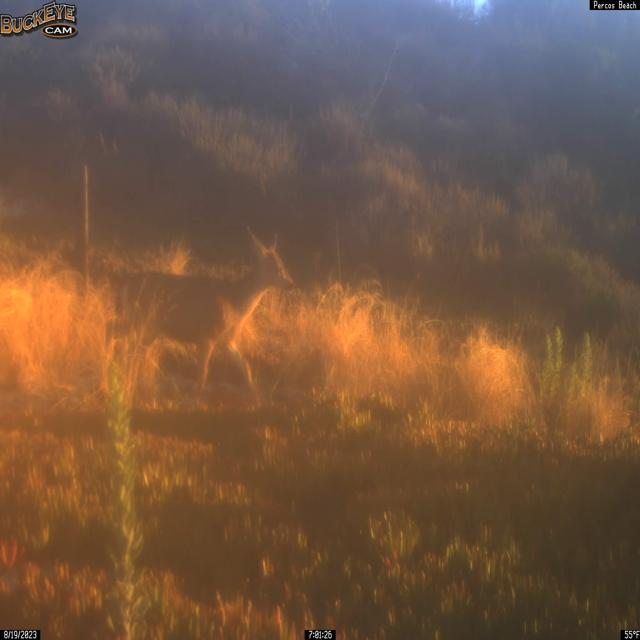deer: (102, 225, 296, 405)
